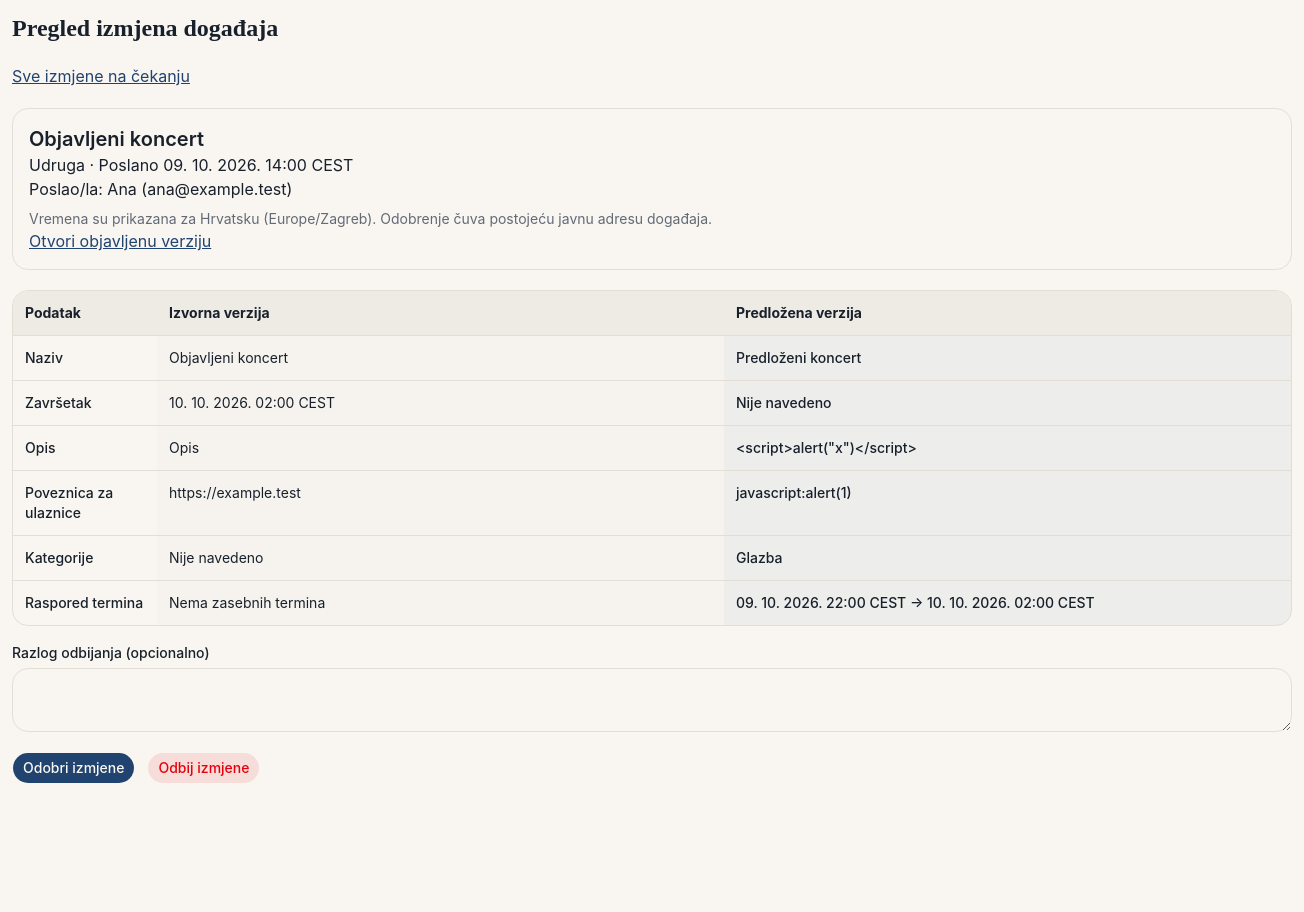
Test case: event revision review › blocks approval on conflicts until a fresh review is explicitly loaded
Click the button "Odobri izmjene": (74, 768) [12,752,136,784]
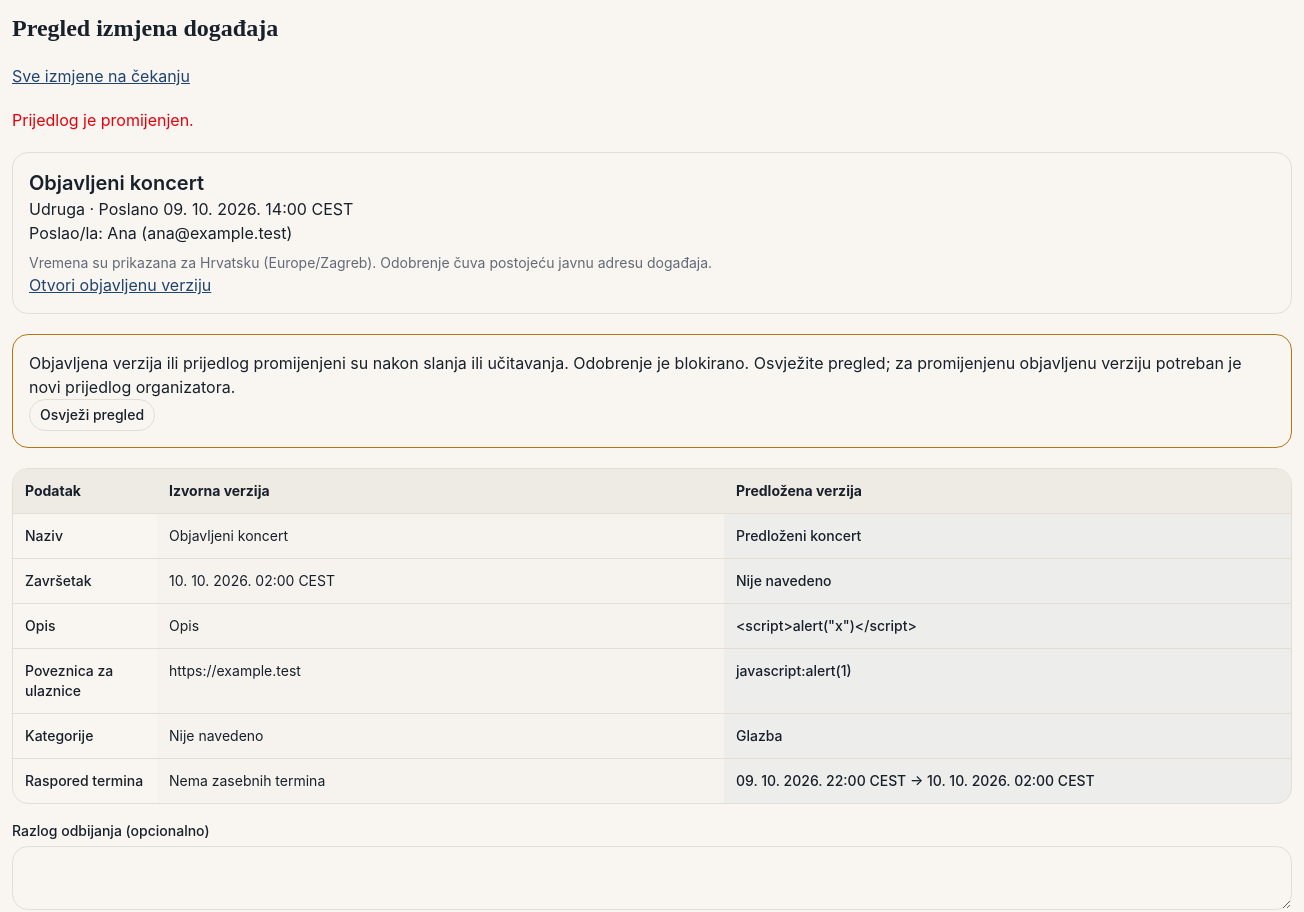
Check: the text "Prijedlog je promijenjen." is shown, box [12,110,194,130]
Click the button "Osvježi pregled": (92, 415) [29,399,155,431]
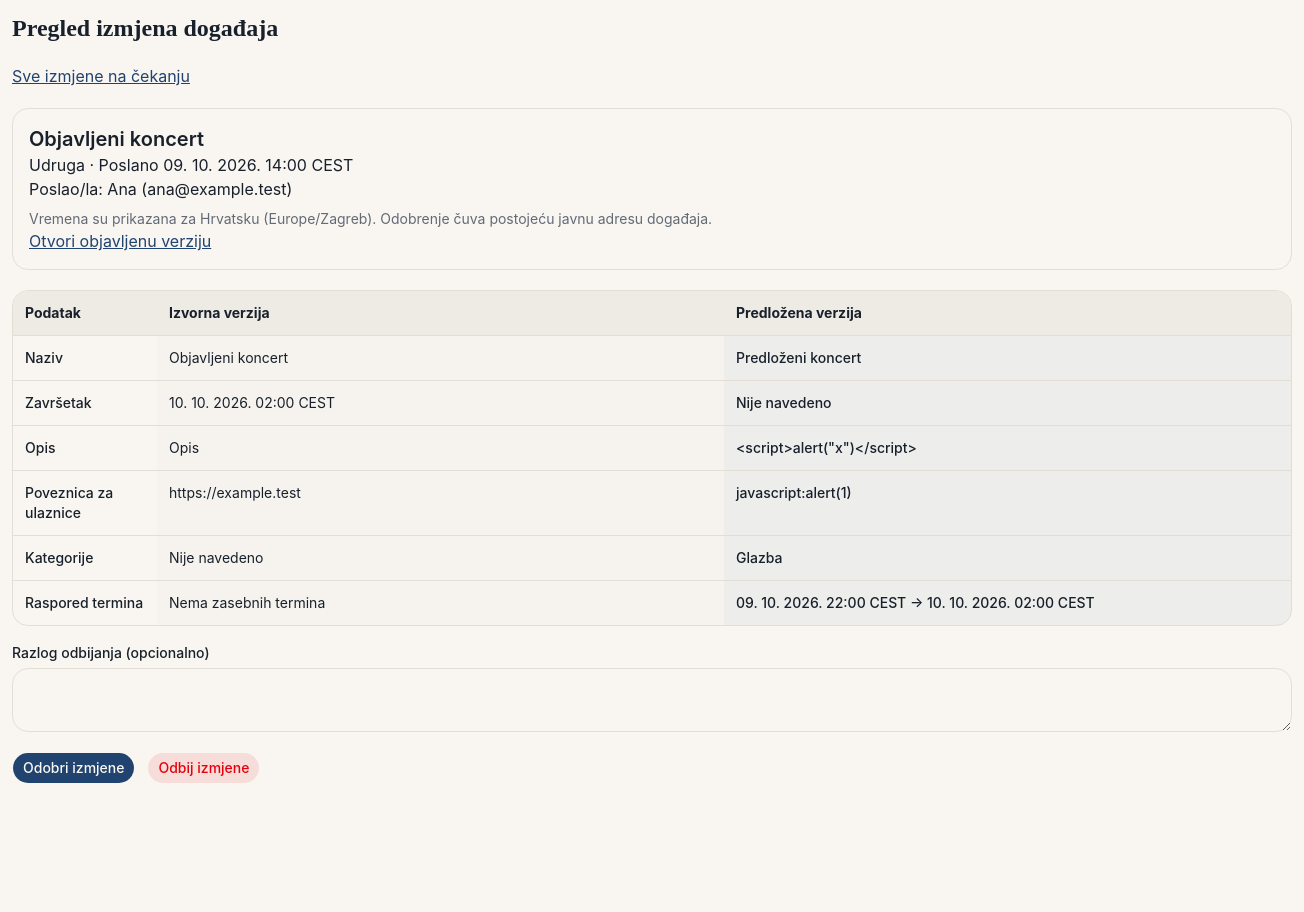
Check: the button "Odobri izmjene" is enabled, box [12,752,136,784]
